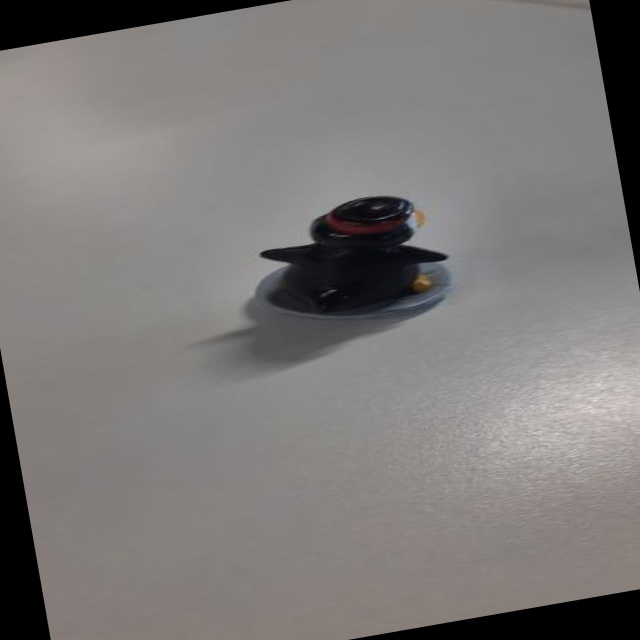Penguin: (244, 180, 458, 347)
